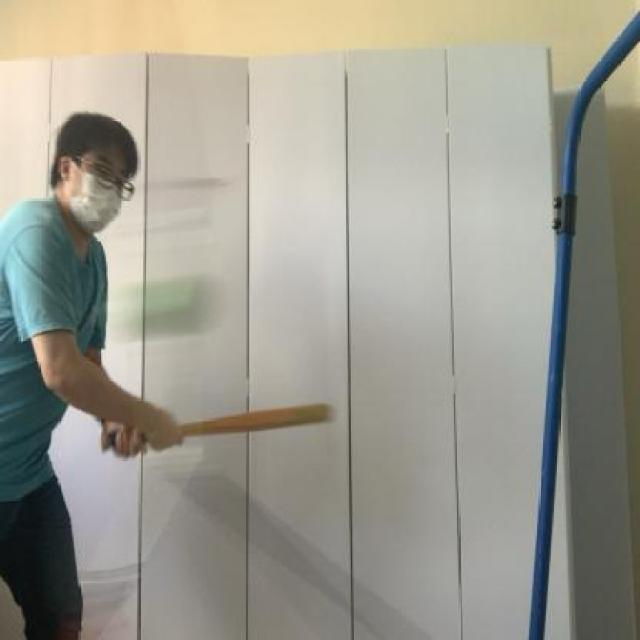baseball: (100, 268, 212, 338)
